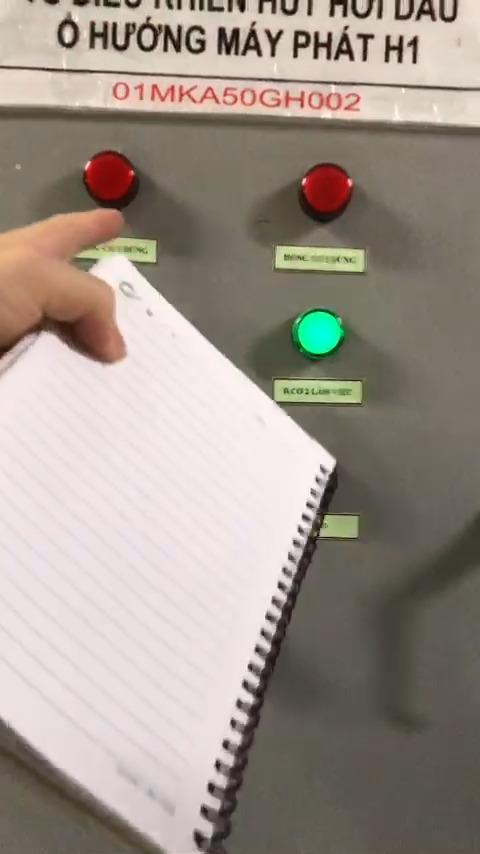led: (75, 143, 139, 204), (293, 161, 359, 219), (292, 305, 349, 358)
